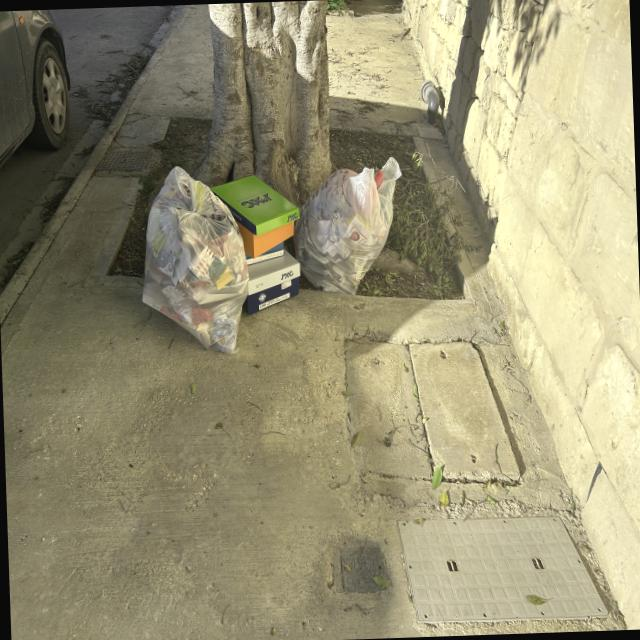grey_bag: (136, 164, 251, 356), (296, 152, 407, 296)
other_waste: (213, 174, 300, 314)
